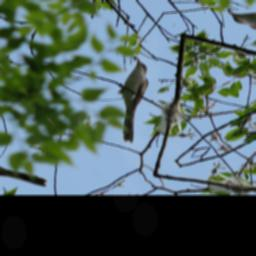Cuckoo: (78, 55, 190, 144)
